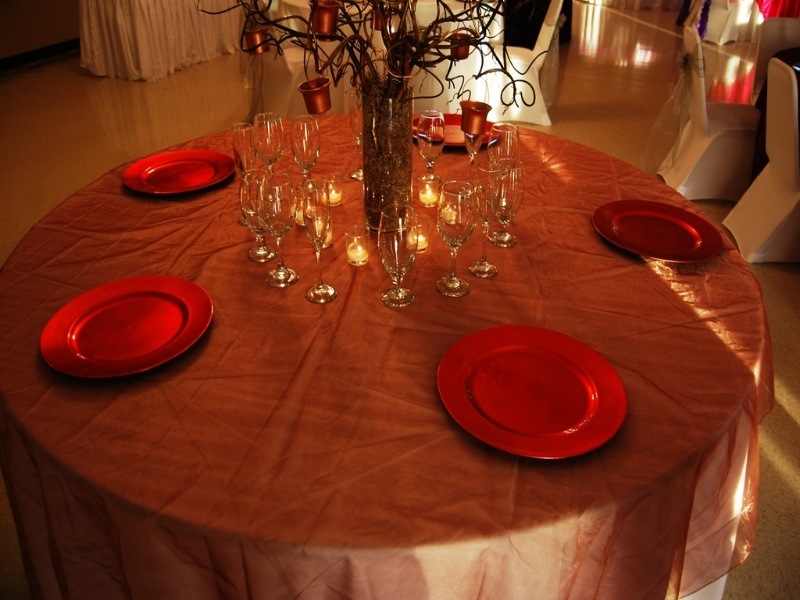dining table: (5, 98, 775, 600)
